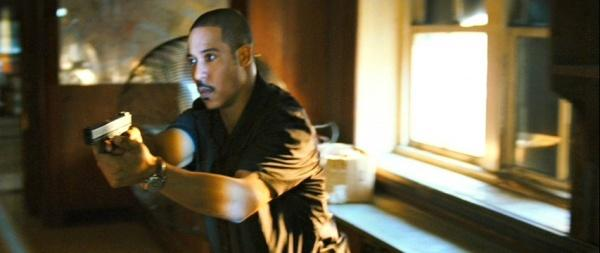Gun: (88, 111, 134, 152)
